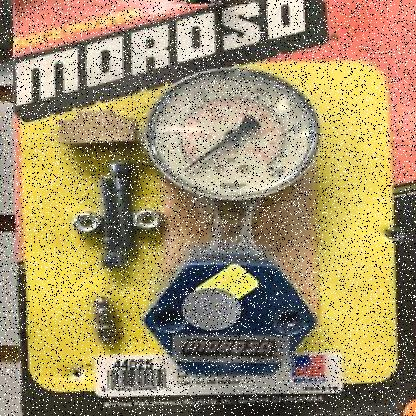needle: (183, 137, 232, 171)
